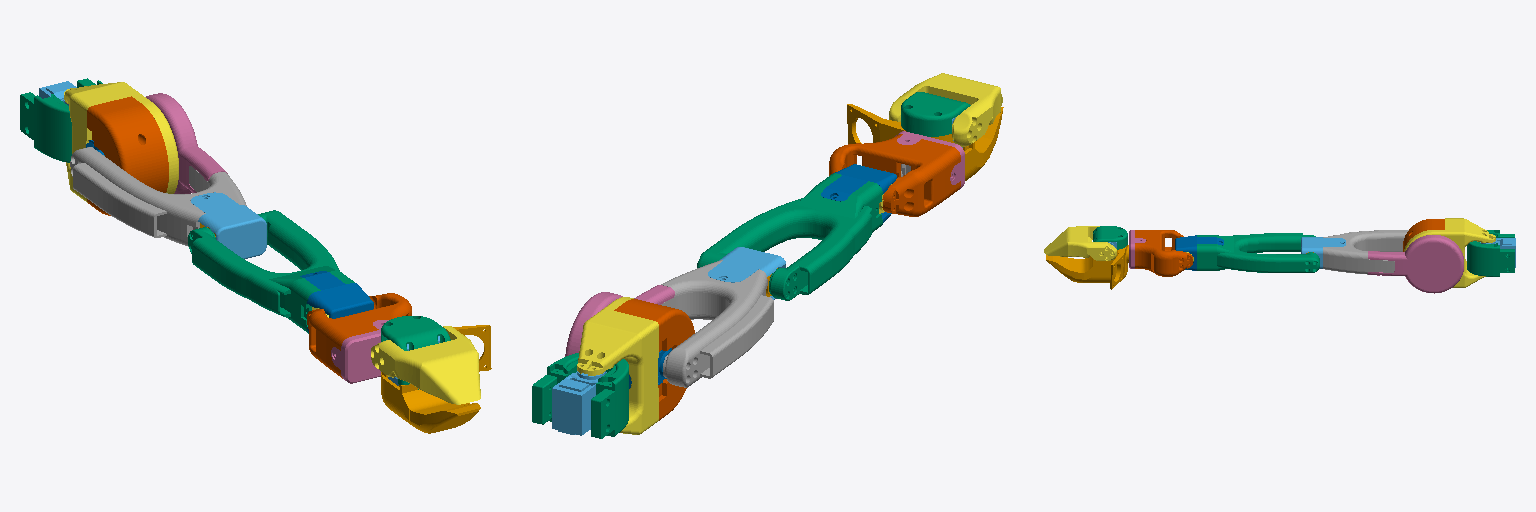
The robot description file, URDF, robot "ArmLeft":
<?xml version='1.0' encoding='utf-8'?>
<robot name="ArmLeft">
    <link name="base_link">
        <inertial>
            <origin xyz="0.29935612915181736 0.27729322841348575 -0.020831519631434304" rpy="0 0 0" />
            <mass value="0.3506312605592578" />
            <inertia ixx="0.000118" iyy="0.000202" izz="0.000129" ixy="-0.0" iyz="-0.0" ixz="0.0" />
        </inertial>
        <visual>
            <origin xyz="0 0 0" rpy="0 0 0" />
            <geometry>
                <mesh filename="meshes/base_link.stl" scale="0.001 0.001 0.001" />
            </geometry>
        </visual>
        <collision>
            <origin xyz="0 0 0" rpy="0 0 0" />
            <geometry>
                <mesh filename="meshes/base_link.stl" scale="0.001 0.001 0.001" />
            </geometry>
        </collision>
    </link>
    <link name="Feetech_Servo_Motor_v1_1">
        <inertial>
            <origin xyz="1.2917732428174844e-07 -0.022283131718606353 -0.0005077010601268993" rpy="0 0 0" />
            <mass value="0.2767788222767674" />
            <inertia ixx="7.1e-05" iyy="3.8e-05" izz="6e-05" ixy="-0.0" iyz="-0.0" ixz="0.0" />
        </inertial>
        <visual>
            <origin xyz="-0.299356 -0.279233 0.019623" rpy="0 0 0" />
            <geometry>
                <mesh filename="meshes/Feetech_Servo_Motor_v1_1.stl" scale="0.001 0.001 0.001" />
            </geometry>
        </visual>
        <collision>
            <origin xyz="-0.299356 -0.279233 0.019623" rpy="0 0 0" />
            <geometry>
                <mesh filename="meshes/Feetech_Servo_Motor_v1_1.stl" scale="0.001 0.001 0.001" />
            </geometry>
        </collision>
    </link>
    <link name="Motor_1_Support_v1_1">
        <inertial>
            <origin xyz="1.0336427563872874e-07 -0.027148446833023115 -0.010172955537502696" rpy="0 0 0" />
            <mass value="0.5154843809667771" />
            <inertia ixx="0.000199" iyy="0.000234" izz="0.000299" ixy="0.0" iyz="1e-06" ixz="-0.0" />
        </inertial>
        <visual>
            <origin xyz="-0.299356 -0.269233 0.010123" rpy="0 0 0" />
            <geometry>
                <mesh filename="meshes/Motor_1_Support_v1_1.stl" scale="0.001 0.001 0.001" />
            </geometry>
        </visual>
        <collision>
            <origin xyz="-0.299356 -0.269233 0.010123" rpy="0 0 0" />
            <geometry>
                <mesh filename="meshes/Motor_1_Support_v1_1.stl" scale="0.001 0.001 0.001" />
            </geometry>
        </collision>
    </link>
    <link name="Arm-Base-Shoulder">
        <inertial>
            <origin xyz="0.003472 -0.043446 -0.244240" rpy="0 0 0" />
            <mass value="0.911762037293899" />
            <inertia ixx="0.001085" iyy="0.000805" izz="0.000631" ixy="0.000109" iyz="-0.0" ixz="-0.0" />
        </inertial>
        <visual>
            <origin xyz="-0.299356 -0.244233 -0.224234" rpy="0 0 0" />
            <geometry>
                <mesh filename="meshes/Shoulder_v1_1.stl" scale="0.001 0.001 0.001" />
            </geometry>
        </visual>
        <collision>
            <origin xyz="-0.299356 -0.244233 -0.224234" rpy="0 0 0" />
            <geometry>
                <mesh filename="meshes/Shoulder_v1_1.stl" scale="0.001 0.001 0.001" />
            </geometry>
        </collision>
    </link>
    <link name="Feetech_Servo_Motor_v1_2">
        <inertial>
            <origin xyz="0.0005072092460622901 -0.022283131718606325 -3.995997430034093e-07" rpy="0 0 0" />
            <mass value="0.2767788222767674" />
            <inertia ixx="6e-05" iyy="3.8e-05" izz="7.1e-05" ixy="0.0" iyz="-0.0" ixz="-0.0" />
        </inertial>
        <visual>
            <origin xyz="-0.293949 -0.209233 0.019998" rpy="0 0 0" />
            <geometry>
                <mesh filename="meshes/Feetech_Servo_Motor_v1_2.stl" scale="0.001 0.001 0.001" />
            </geometry>
        </visual>
        <collision>
            <origin xyz="-0.293949 -0.209233 0.019998" rpy="0 0 0" />
            <geometry>
                <mesh filename="meshes/Feetech_Servo_Motor_v1_2.stl" scale="0.001 0.001 0.001" />
            </geometry>
        </collision>
    </link>
    <link name="Motor_2_Support_v1_1">
        <inertial>
            <origin xyz="-0.0017115175550436734 -0.026377844205583367 -0.026375399599540824" rpy="0 0 0" />
            <mass value="0.8521723955554203" />
            <inertia ixx="0.000613" iyy="0.000535" izz="0.000279" ixy="-2e-06" iyz="0.0" ixz="0.0" />
        </inertial>
        <visual>
            <origin xyz="-0.296231 -0.189233 -0.006377" rpy="0 0 0" />
            <geometry>
                <mesh filename="meshes/Motor_2_Support_v1_1.stl" scale="0.001 0.001 0.001" />
            </geometry>
        </visual>
        <collision>
            <origin xyz="-0.296231 -0.189233 -0.006377" rpy="0 0 0" />
            <geometry>
                <mesh filename="meshes/Motor_2_Support_v1_1.stl" scale="0.001 0.001 0.001" />
            </geometry>
        </collision>
    </link>
    <link name="Arm-Bicep">
        <inertial>
            <origin xyz="-0.157842 -0.013002 0.000094" rpy="0 0 0" />
            <mass value="0.384856570856009" />
            <inertia ixx="0.000525" iyy="0.000162" izz="0.000381" ixy="-1.5e-05" iyz="2e-06" ixz="0.0" />
        </inertial>
        <visual>
            <origin xyz="-0.492229 -0.174233 0.019998" rpy="0 0 0" />
            <geometry>
                <mesh filename="meshes/Bicep_Left_v1_1.stl" scale="0.001 0.001 0.001" />
            </geometry>
        </visual>
        <collision>
            <origin xyz="-0.492229 -0.174233 0.019998" rpy="0 0 0" />
            <geometry>
                <mesh filename="meshes/Bicep_Left_v1_1.stl" scale="0.001 0.001 0.001" />
            </geometry>
        </collision>
    </link>
    <link name="Bicep_Right_v1_1">
        <inertial>
            <origin xyz="-0.040202015270313196 -0.021685340647898232 -3.84349177460358e-07" rpy="0 0 0" />
            <mass value="0.9814153770935814" />
            <inertia ixx="0.00147" iyy="0.000738" izz="0.002084" ixy="0.000465" iyz="-0.0" ixz="0.0" />
        </inertial>
        <visual>
            <origin xyz="-0.327633 -0.116748 0.019998" rpy="0 0 0" />
            <geometry>
                <mesh filename="meshes/Bicep_Right_v1_1.stl" scale="0.001 0.001 0.001" />
            </geometry>
        </visual>
        <collision>
            <origin xyz="-0.327633 -0.116748 0.019998" rpy="0 0 0" />
            <geometry>
                <mesh filename="meshes/Bicep_Right_v1_1.stl" scale="0.001 0.001 0.001" />
            </geometry>
        </collision>
    </link>
    <link name="Feetech_Servo_Motor_v1_3">
        <inertial>
            <origin xyz="0.0005074306379121984 -0.022283131718606044 -3.99599542434681e-07" rpy="0 0 0" />
            <mass value="0.2767788222767674" />
            <inertia ixx="6e-05" iyy="3.8e-05" izz="7.1e-05" ixy="0.0" iyz="-0.0" ixz="-0.0" />
        </inertial>
        <visual>
            <origin xyz="-0.298831 -0.052123 0.019998" rpy="0 0 0" />
            <geometry>
                <mesh filename="meshes/Feetech_Servo_Motor_v1_3.stl" scale="0.001 0.001 0.001" />
            </geometry>
        </visual>
        <collision>
            <origin xyz="-0.298831 -0.052123 0.019998" rpy="0 0 0" />
            <geometry>
                <mesh filename="meshes/Feetech_Servo_Motor_v1_3.stl" scale="0.001 0.001 0.001" />
            </geometry>
        </collision>
    </link>
    <link name="Motor_3_support_v1_1">
        <inertial>
            <origin xyz="0.00048601350143195887 -0.031517928432234 -4.0234326455917957e-07" rpy="0 0 0" />
            <mass value="0.09403496202052875" />
            <inertia ixx="4.2e-05" iyy="2.7e-05" izz="3.9e-05" ixy="0.0" iyz="-0.0" ixz="0.0" />
        </inertial>
        <visual>
            <origin xyz="-0.299397 -0.057123 0.019998" rpy="0 0 0" />
            <geometry>
                <mesh filename="meshes/Motor_3_support_v1_1.stl" scale="0.001 0.001 0.001" />
            </geometry>
        </visual>
        <collision>
            <origin xyz="-0.299397 -0.057123 0.019998" rpy="0 0 0" />
            <geometry>
                <mesh filename="meshes/Motor_3_support_v1_1.stl" scale="0.001 0.001 0.001" />
            </geometry>
        </collision>
    </link>
    <link name="Arm-Forearm">
        <inertial>
            <origin xyz="0.003334851050951937 -0.07420185829491269 -3.0261504629577884e-07" rpy="0 0 0" />
            <mass value="0.9856190031425273" />
            <inertia ixx="0.001784" iyy="0.000633" izz="0.002315" ixy="-0.00011" iyz="-0.0" ixz="0.0" />
        </inertial>
        <visual>
            <origin xyz="-0.299206 -0.017123 0.019998" rpy="0 0 0" />
            <geometry>
                <mesh filename="meshes/Forearm_v1_1.stl" scale="0.001 0.001 0.001" />
            </geometry>
        </visual>
        <collision>
            <origin xyz="-0.299206 -0.017123 0.019998" rpy="0 0 0" />
            <geometry>
                <mesh filename="meshes/Forearm_v1_1.stl" scale="0.001 0.001 0.001" />
            </geometry>
        </collision>
    </link>
    <link name="Feetech_Servo_Motor_v1_4">
        <inertial>
            <origin xyz="0.000507430637912365 -0.02228313171860616 -3.9959954254917274e-07" rpy="0 0 0" />
            <mass value="0.2767788222767674" />
            <inertia ixx="6e-05" iyy="3.8e-05" izz="7.1e-05" ixy="0.0" iyz="-0.0" ixz="-0.0" />
        </inertial>
        <visual>
            <origin xyz="-0.299206 0.109352 0.019998" rpy="0 0 0" />
            <geometry>
                <mesh filename="meshes/Feetech_Servo_Motor_v1_4.stl" scale="0.001 0.001 0.001" />
            </geometry>
        </visual>
        <collision>
            <origin xyz="-0.299206 0.109352 0.019998" rpy="0 0 0" />
            <geometry>
                <mesh filename="meshes/Feetech_Servo_Motor_v1_4.stl" scale="0.001 0.001 0.001" />
            </geometry>
        </collision>
    </link>
    <link name="Motor_4_support_v1_1">
        <inertial>
            <origin xyz="0.020299440054970197 -0.0012891962136628021 -0.015621399550163166" rpy="0 0 0" />
            <mass value="0.1264851249695149" />
            <inertia ixx="6.1e-05" iyy="3.7e-05" izz="5e-05" ixy="0.0" iyz="0.0" ixz="-0.0" />
        </inertial>
        <visual>
            <origin xyz="-0.27911 0.129352 0.004377" rpy="0 0 0" />
            <geometry>
                <mesh filename="meshes/Motor_4_support_v1_1.stl" scale="0.001 0.001 0.001" />
            </geometry>
        </visual>
        <collision>
            <origin xyz="-0.27911 0.129352 0.004377" rpy="0 0 0" />
            <geometry>
                <mesh filename="meshes/Motor_4_support_v1_1.stl" scale="0.001 0.001 0.001" />
            </geometry>
        </collision>
    </link>
    <link name="Arm-Wrist">
        <inertial>
            <origin xyz="-0.0017205182789618023 -0.032548326488546026 3.281348134779108e-05" rpy="0 0 0" />
            <mass value="0.4627755669624243" />
            <inertia ixx="0.000192" iyy="0.000364" izz="0.000447" ixy="-3.5e-05" iyz="0.0" ixz="-0.0" />
        </inertial>
        <visual>
            <origin xyz="-0.299581 0.144352 0.019998" rpy="0 0 0" />
            <geometry>
                <mesh filename="meshes/Wrist_v1_1.stl" scale="0.001 0.001 0.001" />
            </geometry>
        </visual>
        <collision>
            <origin xyz="-0.299581 0.144352 0.019998" rpy="0 0 0" />
            <geometry>
                <mesh filename="meshes/Wrist_v1_1.stl" scale="0.001 0.001 0.001" />
            </geometry>
        </collision>
    </link>
    <link name="Motor_5_support_v1_1">
        <inertial>
            <origin xyz="-0.013817884921910883 -0.008908793485099958 -4.273684742830963e-07" rpy="0 0 0" />
            <mass value="0.05323376193500332" />
            <inertia ixx="1e-05" iyy="2.5e-05" izz="1.7e-05" ixy="-0.0" iyz="0.0" ixz="-0.0" />
        </inertial>
        <visual>
            <origin xyz="-0.298938 0.201852 0.019998" rpy="0 0 0" />
            <geometry>
                <mesh filename="meshes/Motor_5_support_v1_1.stl" scale="0.001 0.001 0.001" />
            </geometry>
        </visual>
        <collision>
            <origin xyz="-0.298938 0.201852 0.019998" rpy="0 0 0" />
            <geometry>
                <mesh filename="meshes/Motor_5_support_v1_1.stl" scale="0.001 0.001 0.001" />
            </geometry>
        </collision>
    </link>
    <link name="Feetech_Servo_Motor_v1_5">
        <inertial>
            <origin xyz="-0.0002170095262819527 -0.00013257188280094145 -3.9959953920115643e-07" rpy="0 0 0" />
            <mass value="0.2767788222767674" />
            <inertia ixx="3.8e-05" iyy="6e-05" izz="7.1e-05" ixy="0.0" iyz="-0.0" ixz="-0.0" />
        </inertial>
        <visual>
            <origin xyz="-0.288381 0.196852 0.019998" rpy="0 0 0" />
            <geometry>
                <mesh filename="meshes/Feetech_Servo_Motor_v1_5.stl" scale="0.001 0.001 0.001" />
            </geometry>
        </visual>
        <collision>
            <origin xyz="-0.288381 0.196852 0.019998" rpy="0 0 0" />
            <geometry>
                <mesh filename="meshes/Feetech_Servo_Motor_v1_5.stl" scale="0.001 0.001 0.001" />
            </geometry>
        </collision>
    </link>
    <link name="Gripper-Base">
        <inertial>
            <origin xyz="-0.03149996863334259 -0.04017528778962717 -0.017621761224535636" rpy="0 0 0" />
            <mass value="1.3881215297523442" />
            <inertia ixx="0.001203" iyy="0.002224" izz="0.002985" ixy="0.0" iyz="-0.000151" ixz="-0.0" />
        </inertial>
        <visual>
            <origin xyz="-0.300881 0.214602 0.019998" rpy="0 0 0" />
            <geometry>
                <mesh filename="meshes/Gripper_Base_v1_1.stl" scale="0.001 0.001 0.001" />
            </geometry>
        </visual>
        <collision>
            <origin xyz="-0.300881 0.214602 0.019998" rpy="0 0 0" />
            <geometry>
                <mesh filename="meshes/Gripper_Base_v1_1.stl" scale="0.001 0.001 0.001" />
            </geometry>
        </collision>
    </link>
    <link name="Feetech_Servo_Motor_v1_6">
        <inertial>
            <origin xyz="0.0005074306379127536 -2.7042221664719257e-07 0.022282461696850348" rpy="0 0 0" />
            <mass value="0.2767788222767674" />
            <inertia ixx="6e-05" iyy="7.1e-05" izz="3.8e-05" ixy="0.0" iyz="0.0" ixz="-0.0" />
        </inertial>
        <visual>
            <origin xyz="-0.300881 0.244977 0.039998" rpy="0 0 0" />
            <geometry>
                <mesh filename="meshes/Feetech_Servo_Motor_v1_6.stl" scale="0.001 0.001 0.001" />
            </geometry>
        </visual>
        <collision>
            <origin xyz="-0.300881 0.244977 0.039998" rpy="0 0 0" />
            <geometry>
                <mesh filename="meshes/Feetech_Servo_Motor_v1_6.stl" scale="0.001 0.001 0.001" />
            </geometry>
        </collision>
    </link>
    <link name="Motor_6_cap_v2_1">
        <inertial>
            <origin xyz="0.01183825867536803 -0.01688813802862349 0.0032522491473871316" rpy="0 0 0" />
            <mass value="0.12631768788801365" />
            <inertia ixx="4.4e-05" iyy="2.9e-05" izz="4.5e-05" ixy="-0.0" iyz="-1.1e-05" ixz="-0.0" />
        </inertial>
        <visual>
            <origin xyz="-0.288881 0.227602 0.004998" rpy="0 0 0" />
            <geometry>
                <mesh filename="meshes/Motor_6_cap_v2_1.stl" scale="0.001 0.001 0.001" />
            </geometry>
        </visual>
        <collision>
            <origin xyz="-0.288881 0.227602 0.004998" rpy="0 0 0" />
            <geometry>
                <mesh filename="meshes/Motor_6_cap_v2_1.stl" scale="0.001 0.001 0.001" />
            </geometry>
        </collision>
    </link>
    <link name="Gripper-Finger">
        <inertial>
            <origin xyz="8.665341716951325e-07 -0.03351900708018063 0.000763141970206398" rpy="0 0 0" />
            <mass value="0.4446000087025716" />
            <inertia ixx="0.000203" iyy="0.000172" izz="0.000342" ixy="-0.0" iyz="-5e-06" ixz="0.0" />
        </inertial>
        <visual>
            <origin xyz="-0.301256 0.244977 0.004998" rpy="0 0 0" />
            <geometry>
                <mesh filename="meshes/Gripper_Finger_v1_1.stl" scale="0.001 0.001 0.001" />
            </geometry>
        </visual>
        <collision>
            <origin xyz="-0.301256 0.244977 0.004998" rpy="0 0 0" />
            <geometry>
                <mesh filename="meshes/Gripper_Finger_v1_1.stl" scale="0.001 0.001 0.001" />
            </geometry>
        </collision>
    </link>
    <joint name="Rigid_99" type="fixed">
        <origin xyz="0.299356 0.279233 -0.019623" rpy="0 0 0" />
        <parent link="base_link" />
        <child link="Feetech_Servo_Motor_v1_1" />
    </joint>
    <joint name="Rigid_100" type="fixed">
        <origin xyz="0.299356 0.269233 -0.010123" rpy="0 0 0" />
        <parent link="base_link" />
        <child link="Motor_1_Support_v1_1" />
    </joint>
    <joint name="shoulder_pan" type="revolute">
        <origin xyz="0.000000 -0.035000 0.243857" rpy="0 0 0" />
        <parent link="Feetech_Servo_Motor_v1_1" />
        <child link="Arm-Base-Shoulder" />
        <axis xyz="-0.0 0.0 1.0" />
        <limit upper="1.570796" lower="-1.570796" effort="1000000" velocity="1000000" />
    </joint>
    <joint name="Rigid_102" type="fixed">
        <origin xyz="-0.005407 -0.035000 -0.244232" rpy="0 0 0" />
        <parent link="Arm-Base-Shoulder" />
        <child link="Feetech_Servo_Motor_v1_2" />
    </joint>
    <joint name="Rigid_103" type="fixed">
        <origin xyz="-0.003125 -0.055000 -0.217857" rpy="0 0 0" />
        <parent link="Arm-Base-Shoulder" />
        <child link="Motor_2_Support_v1_1" />
    </joint>
    <joint name="shoulder_lift" type="revolute">
        <origin xyz="0.192873 -0.070000 -0.244232" rpy="0 0 0" />
        <parent link="Arm-Base-Shoulder" />
        <child link="Arm-Bicep" />
        <axis xyz="-1.0 -0.0 -0.0" />
        <limit upper="1.570796" lower="-1.570796" effort="1000000" velocity="1000000" />
    </joint>
    <joint name="Rigid_104" type="fixed">
        <origin xyz="-0.164596 -0.057485 0.000000" rpy="0 0 0" />
        <parent link="Arm-Bicep" />
        <child link="Bicep_Right_v1_1" />
    </joint>
    <joint name="Rigid_107" type="fixed">
        <origin xyz="-0.028802 -0.064625 0.0" rpy="0 0 0" />
        <parent link="Bicep_Right_v1_1" />
        <child link="Feetech_Servo_Motor_v1_3" />
    </joint>
    <joint name="Rigid_108" type="fixed">
        <origin xyz="-0.028236 -0.059625 0.0" rpy="0 0 0" />
        <parent link="Bicep_Right_v1_1" />
        <child link="Motor_3_support_v1_1" />
    </joint>
    <joint name="elbow_flex" type="revolute">
        <origin xyz="0.000375 -0.035 0.0" rpy="0 0 0" />
        <parent link="Feetech_Servo_Motor_v1_3" />
        <child link="Arm-Forearm" />
        <axis xyz="-1.0 -0.0 0.0" />
        <limit upper="1.570796" lower="-1.570796" effort="1000000" velocity="1000000" />
    </joint>
    <joint name="Rigid_111" type="fixed">
        <origin xyz="0.0 -0.126475 0.0" rpy="0 0 0" />
        <parent link="Arm-Forearm" />
        <child link="Feetech_Servo_Motor_v1_4" />
    </joint>
    <joint name="Rigid_112" type="fixed">
        <origin xyz="-0.020096 -0.146475 0.015621" rpy="0 0 0" />
        <parent link="Arm-Forearm" />
        <child link="Motor_4_support_v1_1" />
    </joint>
    <joint name="wrist_flex" type="revolute">
        <origin xyz="0.000375 -0.035 0.0" rpy="0 0 0" />
        <parent link="Feetech_Servo_Motor_v1_4" />
        <child link="Arm-Wrist" />
        <axis xyz="1.0 0.0 -0.0" />
        <limit upper="1.570796" lower="-1.570796" effort="1000000" velocity="1000000" />
    </joint>
    <joint name="Rigid_115" type="fixed">
        <origin xyz="-0.000643 -0.0575 0.0" rpy="0 0 0" />
        <parent link="Arm-Wrist" />
        <child link="Motor_5_support_v1_1" />
    </joint>
    <joint name="auto_weld_1" type="fixed">
        <origin xyz="-0.010557 0.005 0.0" rpy="0 0 0" />
        <parent link="Motor_5_support_v1_1" />
        <child link="Feetech_Servo_Motor_v1_5" />
    </joint>
    <joint name="wrist_roll" type="revolute">
        <origin xyz="0.0125 -0.01775 0.0" rpy="0 0 0" />
        <parent link="Feetech_Servo_Motor_v1_5" />
        <child link="Gripper-Base" />
        <axis xyz="0.0 -1.0 0.0" />
        <limit upper="3.141593" lower="-3.141593" effort="1000000" velocity="1000000" />
    </joint>
    <joint name="Rigid_117" type="fixed">
        <origin xyz="0.0 -0.030375 -0.02" rpy="0 0 0" />
        <parent link="Gripper-Base" />
        <child link="Feetech_Servo_Motor_v1_6" />
    </joint>
    <joint name="Rigid_118" type="fixed">
        <origin xyz="-0.012 -0.013 0.015" rpy="0 0 0" />
        <parent link="Gripper-Base" />
        <child link="Motor_6_cap_v2_1" />
    </joint>
    <joint name="gripper" type="revolute">
        <origin xyz="0.000375 0.0 0.035" rpy="0 0 0" />
        <parent link="Feetech_Servo_Motor_v1_6" />
        <child link="Gripper-Finger" />
        <axis xyz="-1.0 0.0 -0.0" />
        <limit upper="1.570796" lower="-1.570796" effort="1000000" velocity="1000000" />
    </joint>
</robot>

--- Facts derived from the render (not from the file) ---
Views: 3 orthographic renders of the robot side by side, from view 1: azimuth 30°, elevation 25°; view 2: azimuth 150°, elevation 25°; view 3: azimuth 270°, elevation 25°.
Robot: ArmLeft — 20 links, 19 joints (6 revolute, 13 fixed); root link base_link; default pose: every joint at zero.
Visible links, largest first — view 1: Arm-Forearm, Bicep_Right_v1_1, Gripper-Finger, Motor_2_Support_v1_1, Gripper-Base, Arm-Base-Shoulder, Arm-Wrist, Motor_3_support_v1_1, Motor_1_Support_v1_1, Arm-Bicep, Motor_4_support_v1_1, Motor_5_support_v1_1 (+1 smaller); view 2: Arm-Forearm, Bicep_Right_v1_1, Arm-Base-Shoulder, Arm-Wrist, Motor_1_Support_v1_1, Gripper-Finger, Motor_2_Support_v1_1, Gripper-Base, Feetech_Servo_Motor_v1_1, Motor_6_cap_v2_1, Motor_3_support_v1_1, Arm-Bicep (+2 smaller); view 3: Arm-Forearm, Arm-Bicep, Bicep_Right_v1_1, Arm-Wrist, Gripper-Base, Gripper-Finger, Motor_1_Support_v1_1, Arm-Base-Shoulder, Motor_4_support_v1_1, Motor_3_support_v1_1, Motor_6_cap_v2_1.
Link boxes in pixels (left/top/right/bottom): Arm-Forearm: left=188, top=210, right=354, bottom=333; Bicep_Right_v1_1: left=70, top=147, right=246, bottom=246; Gripper-Finger: left=371, top=326, right=480, bottom=404; Motor_2_Support_v1_1: left=87, top=96, right=168, bottom=215; Gripper-Base: left=381, top=325, right=491, bottom=433; Arm-Base-Shoulder: left=64, top=82, right=178, bottom=202; Arm-Wrist: left=307, top=293, right=411, bottom=378; Motor_3_support_v1_1: left=191, top=192, right=266, bottom=258; Motor_1_Support_v1_1: left=20, top=78, right=102, bottom=162; Arm-Bicep: left=146, top=93, right=227, bottom=193; Motor_4_support_v1_1: left=300, top=271, right=373, bottom=332; Motor_5_support_v1_1: left=331, top=320, right=388, bottom=383; Arm-Forearm: left=697, top=173, right=882, bottom=300; Bicep_Right_v1_1: left=661, top=260, right=773, bottom=387; Arm-Base-Shoulder: left=577, top=297, right=658, bottom=434; Arm-Wrist: left=829, top=134, right=960, bottom=216; Motor_1_Support_v1_1: left=532, top=353, right=628, bottom=438; Gripper-Finger: left=889, top=73, right=1002, bottom=146; Motor_2_Support_v1_1: left=614, top=299, right=694, bottom=420; Gripper-Base: left=847, top=104, right=1003, bottom=180; Feetech_Servo_Motor_v1_1: left=552, top=371, right=606, bottom=435; Motor_6_cap_v2_1: left=901, top=92, right=970, bottom=136; Motor_3_support_v1_1: left=708, top=247, right=785, bottom=299; Arm-Bicep: left=565, top=285, right=674, bottom=356; Arm-Forearm: left=1197, top=233, right=1319, bottom=272; Arm-Bicep: left=1368, top=235, right=1463, bottom=293; Bicep_Right_v1_1: left=1323, top=230, right=1408, bottom=274; Arm-Wrist: left=1135, top=230, right=1192, bottom=276; Gripper-Base: left=1046, top=245, right=1128, bottom=289; Gripper-Finger: left=1044, top=226, right=1116, bottom=260; Motor_1_Support_v1_1: left=1467, top=230, right=1514, bottom=276; Arm-Base-Shoulder: left=1404, top=218, right=1495, bottom=287; Motor_4_support_v1_1: left=1175, top=235, right=1223, bottom=270; Motor_3_support_v1_1: left=1301, top=237, right=1345, bottom=268; Motor_6_cap_v2_1: left=1093, top=226, right=1127, bottom=249.
Bounding box of the posed robot: 0.1211 × 0.6046 × 0.079 m (x, y, z).
Meshes: 20 distinct files referenced, 19 mesh visuals loaded (19 binary STL); not drawn: 1 (reference not matched to a file when rendering).
